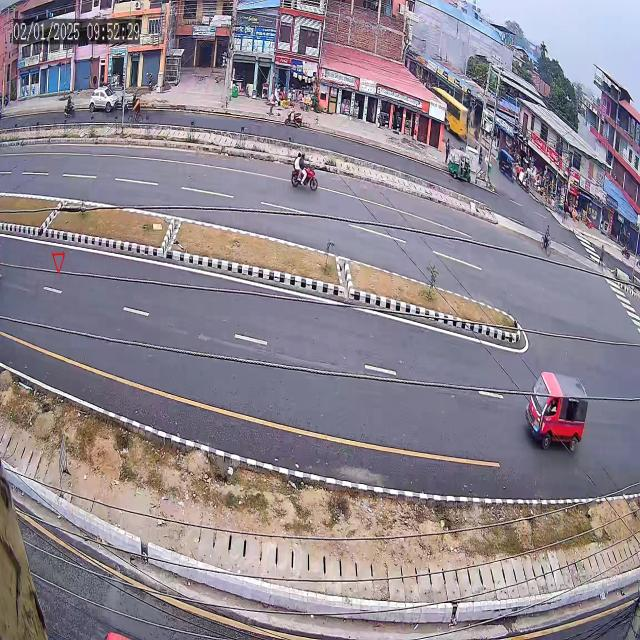cycle: (529, 215, 561, 267)
motorcycle: (285, 140, 326, 200), (61, 85, 79, 123)
van: (512, 348, 604, 463)
